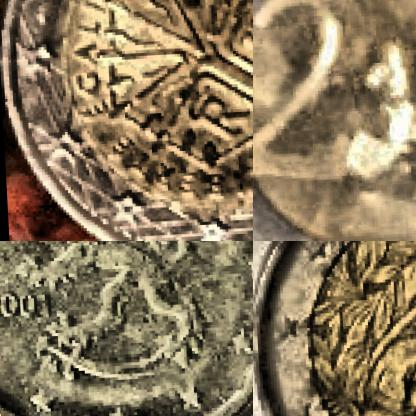coin: (0, 0, 252, 240), (0, 241, 252, 415), (253, 0, 415, 240), (253, 241, 415, 415)
